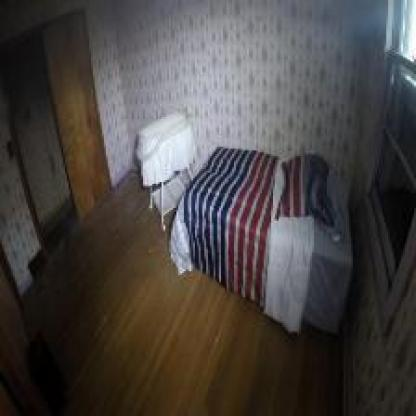other: (250, 150, 264, 278)
